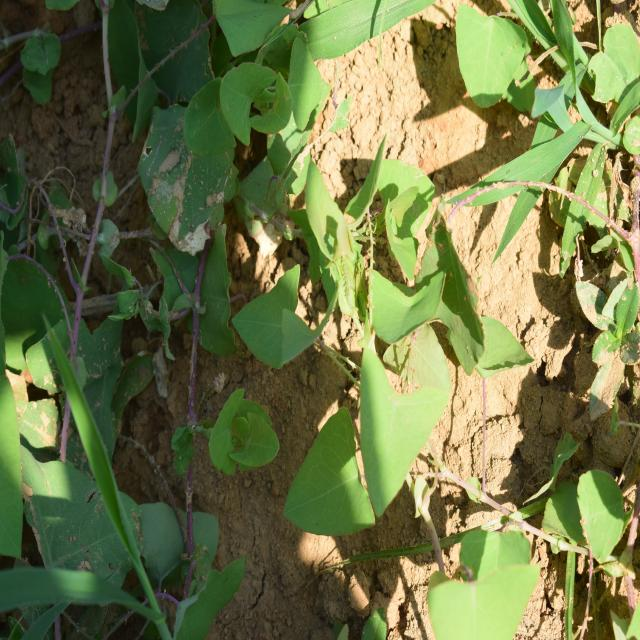Asiatic_Smartweed: (235, 211, 468, 565)
